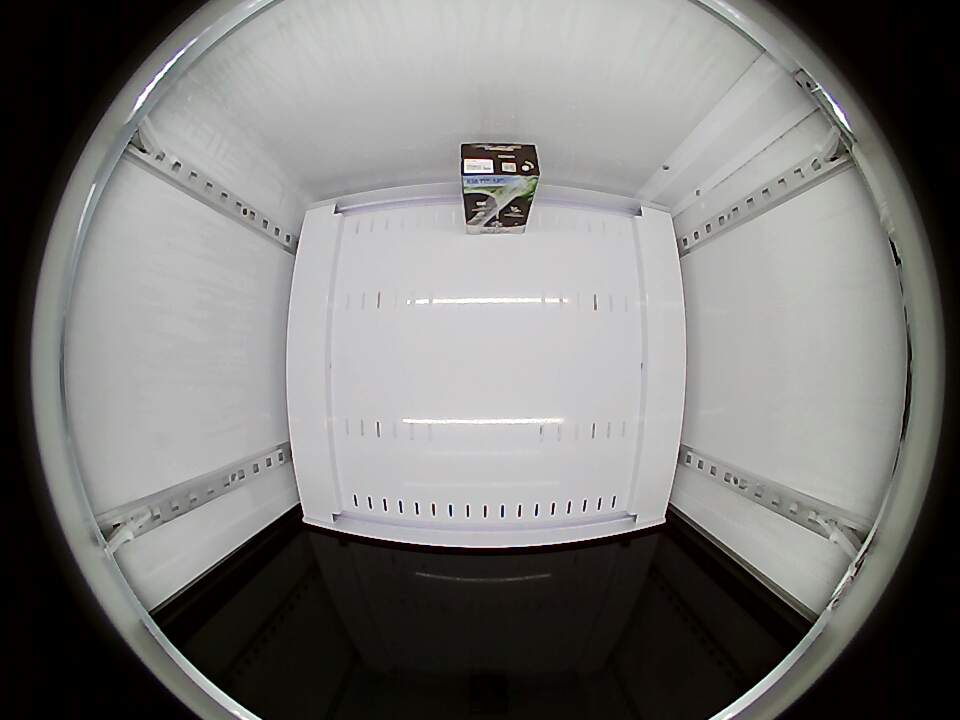weitanai2: (461, 142, 540, 195)
